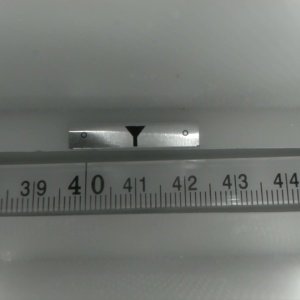0: (91, 175, 104, 194)
1: (139, 177, 145, 192)
2: (187, 175, 197, 191)
3: (19, 181, 30, 197), (237, 174, 247, 189)
4: (67, 176, 82, 195), (288, 172, 299, 187), (273, 172, 283, 188), (174, 175, 184, 191), (221, 175, 232, 189), (122, 178, 132, 193)
9: (35, 180, 46, 196)
finger: (123, 126, 145, 147)
